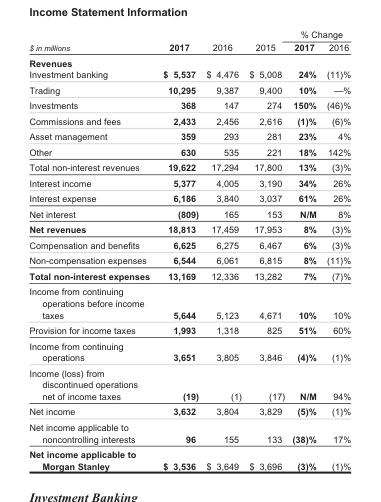table: (28, 28, 350, 470)
table column: (28, 28, 155, 470), (155, 28, 201, 470), (201, 28, 244, 470), (244, 28, 287, 470), (287, 28, 320, 470), (320, 28, 350, 470)
table column header: (28, 28, 350, 54)
table projected row header: (28, 54, 350, 68)
table row: (28, 364, 350, 403), (28, 283, 350, 321), (28, 418, 350, 446), (28, 337, 350, 364), (28, 446, 350, 470), (28, 81, 350, 97), (28, 112, 350, 128), (28, 143, 350, 159), (28, 174, 350, 190), (28, 205, 350, 221), (28, 236, 350, 252), (28, 267, 350, 283), (28, 321, 350, 337), (28, 97, 350, 112), (28, 128, 350, 143), (28, 159, 350, 174), (28, 190, 350, 205), (28, 221, 350, 236), (28, 252, 350, 267), (28, 403, 350, 418), (28, 40, 350, 54), (28, 54, 350, 68), (28, 68, 350, 81), (28, 28, 350, 40)
table spanning cell: (28, 28, 155, 54), (155, 28, 201, 54), (201, 28, 244, 54), (244, 28, 287, 54), (287, 28, 350, 40)
